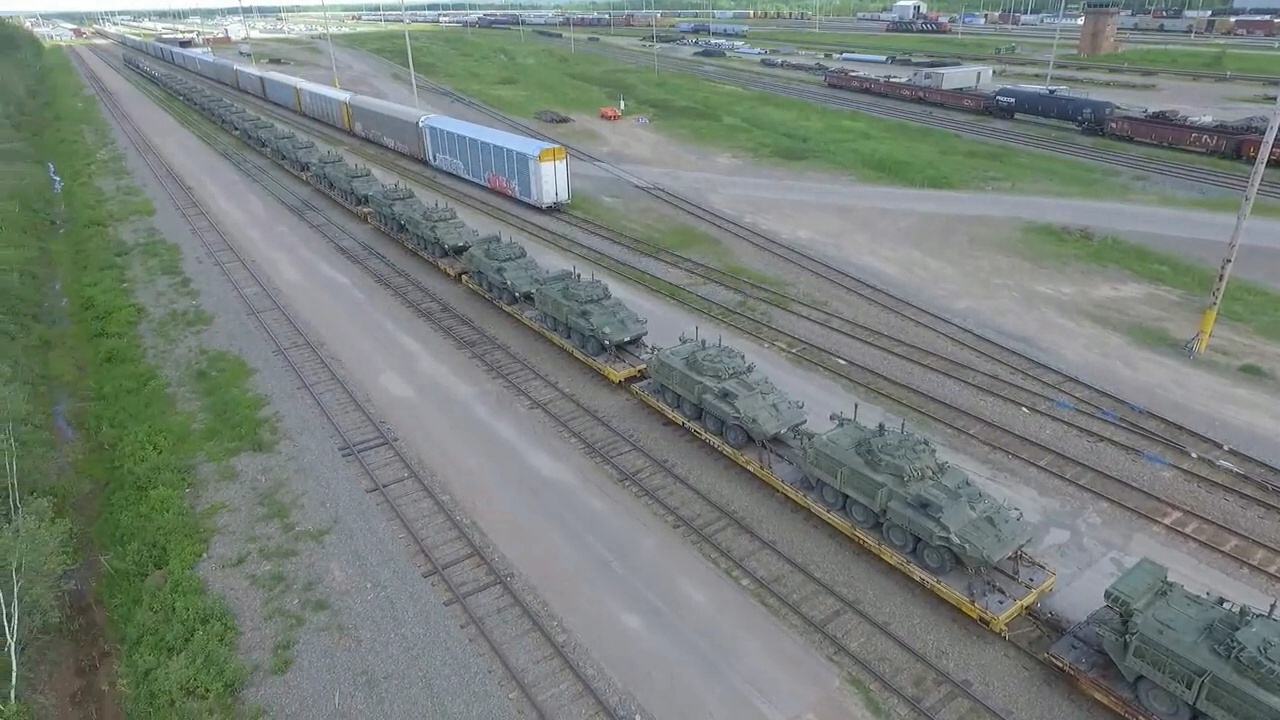tank: (804, 407, 1043, 578), (1096, 552, 1280, 710), (644, 337, 811, 446), (534, 268, 653, 354), (461, 231, 548, 301), (405, 204, 474, 252), (370, 180, 419, 235), (326, 163, 377, 208)
